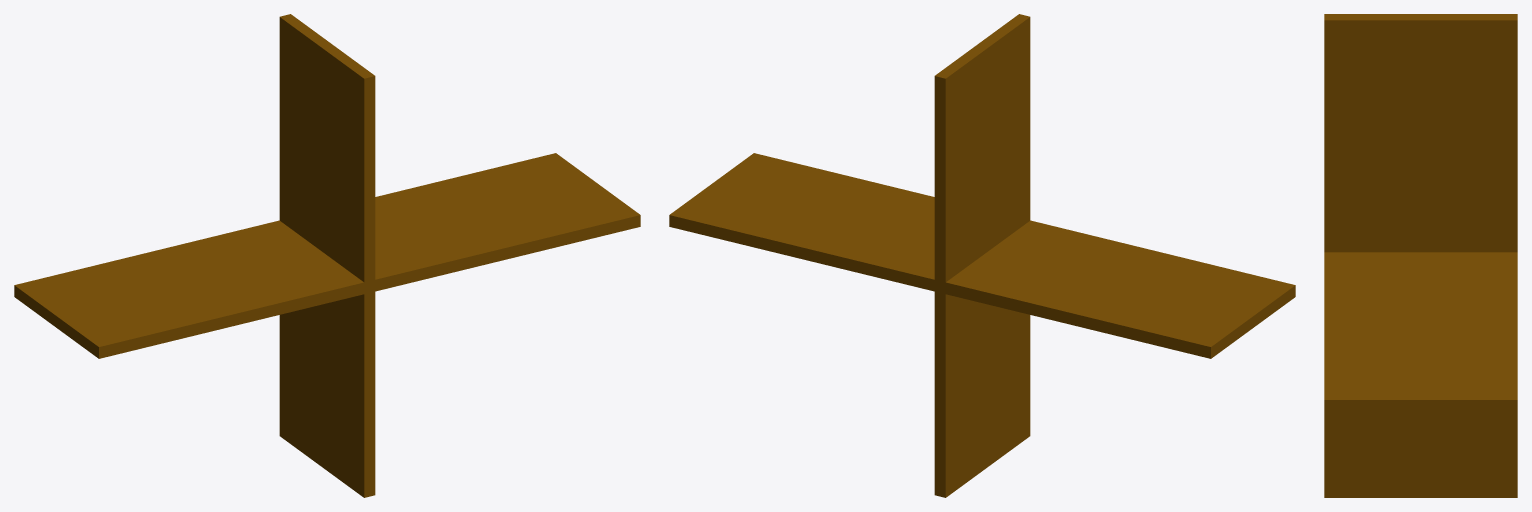
Rendered from shelf.dae.
The picture shows the model from 3 angles, left to right: view 1: azimuth 30°, elevation 25°; view 2: azimuth 150°, elevation 25°; view 3: azimuth 270°, elevation 25°; orthographic projection. The views are drawn at different scales.
Parts seen in each view (by area): view 1: shelf__link (×2); view 2: shelf__link (×2); view 3: shelf__link (×2).
Part boxes in pixels (box(x1,y1,x2,y2)): shelf__link (×2): box(14, 14, 640, 497); shelf__link (×2): box(669, 14, 1295, 497); shelf__link (×2): box(1324, 14, 1517, 497).
Size of the model in its own units: 0.48 by 0.13 by 0.355.
